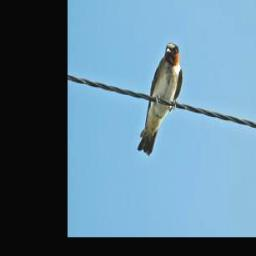Swallow: (135, 40, 183, 156)
